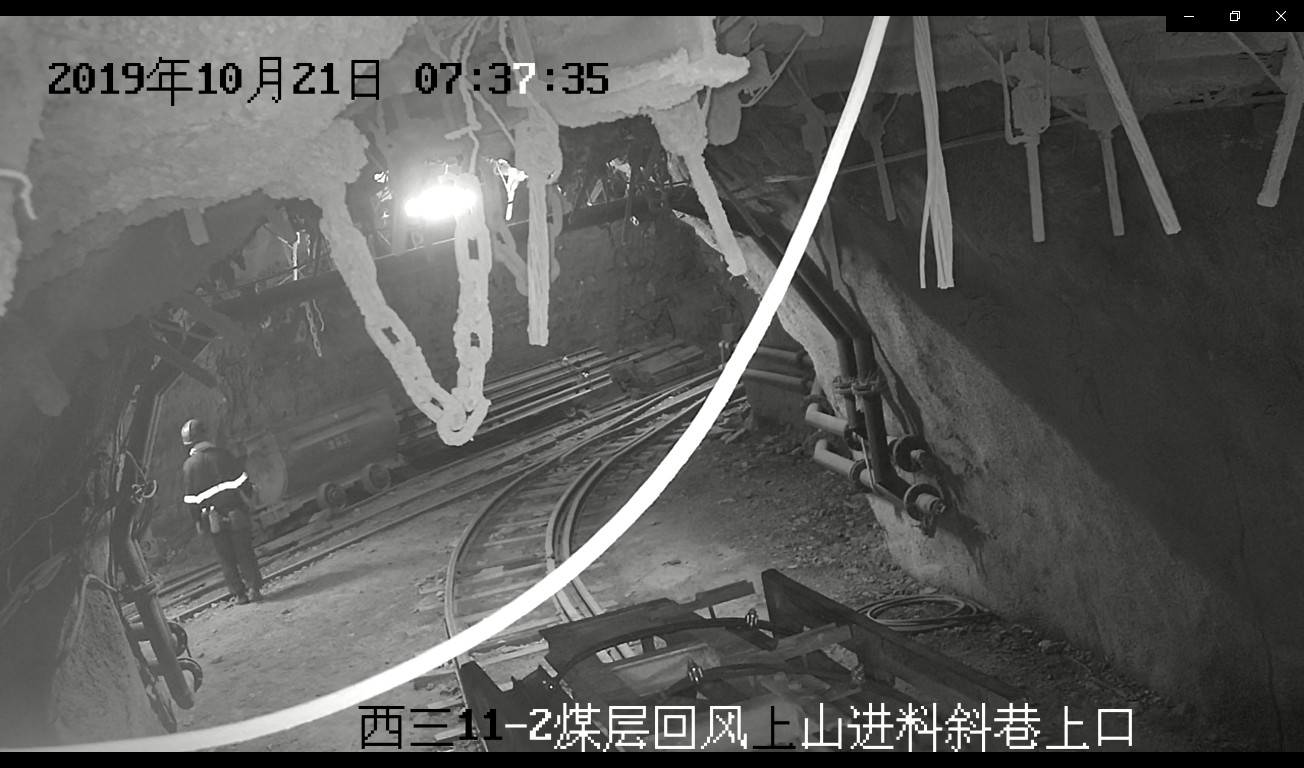helmet: (180, 418, 209, 446)
